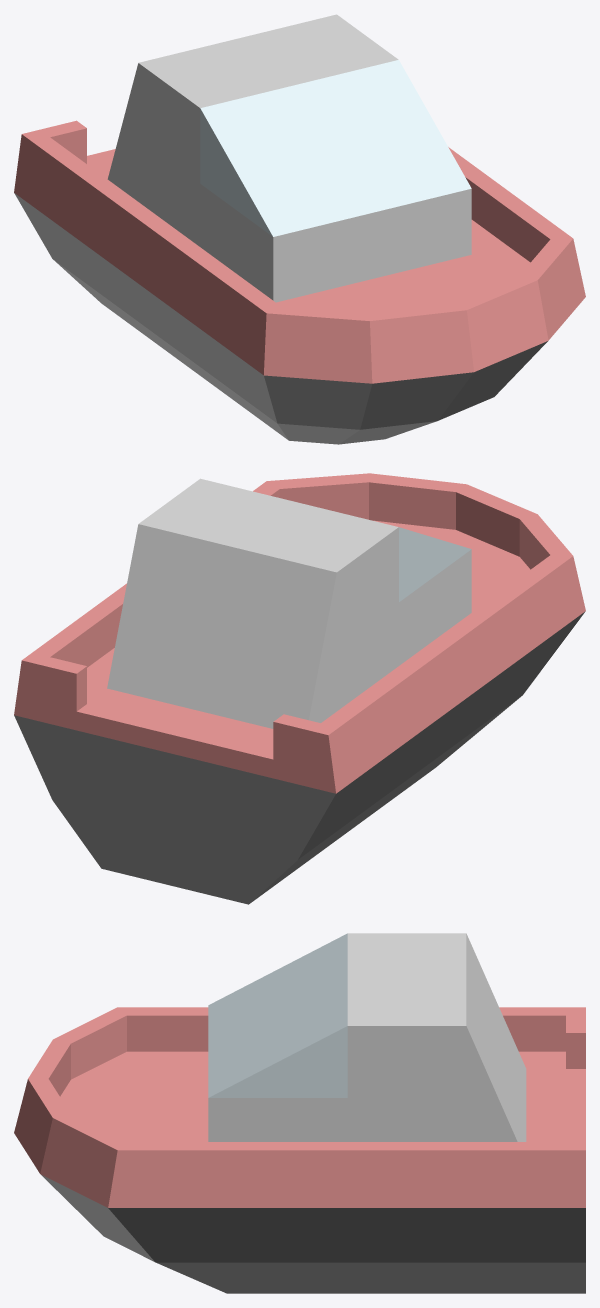
File: boat_007.glb
3 renders of one model, top to bottom at view 1: azimuth 30°, elevation 25°; view 2: azimuth 150°, elevation 25°; view 3: azimuth 270°, elevation 25°, orthographic. The views are drawn at different scales.
Visible parts, largest first — view 1: boat_007; view 2: boat_007; view 3: boat_007.
Part boxes in pixels (x1,y1,x2,y2): boat_007: (14,14,585,444); boat_007: (14,473,585,904); boat_007: (14,933,585,1293).
Bounding box in the file's own units: 1.78 × 1.55 × 2.87.
